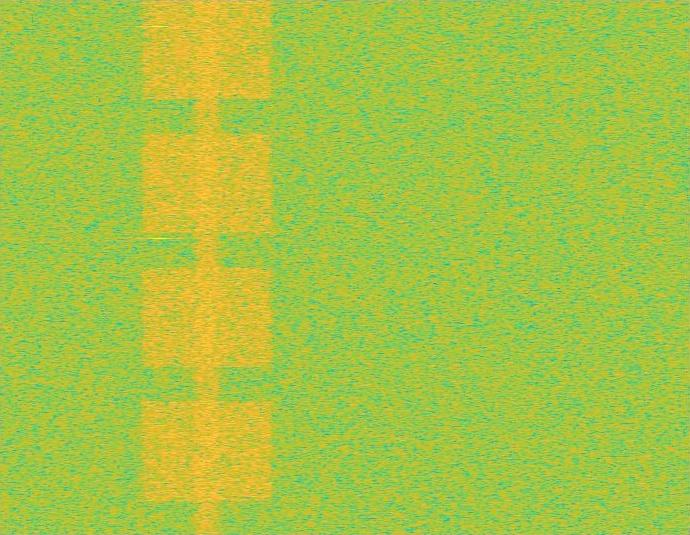5G: (138, 0, 276, 534)
DSSS: (191, 0, 223, 534)
Radar: (152, 0, 166, 534)
